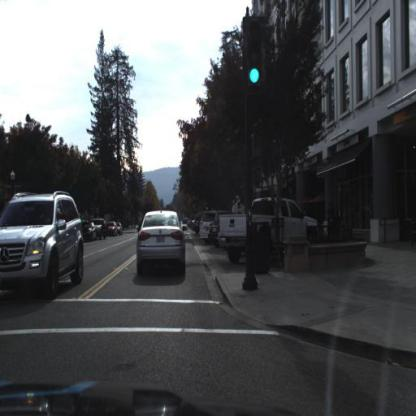car: (2, 193, 85, 287), (216, 197, 320, 253), (136, 211, 186, 279), (198, 209, 213, 250), (201, 212, 211, 245), (83, 218, 96, 240), (95, 219, 106, 238), (108, 221, 118, 239)
pedestrian: (326, 199, 335, 231)
trafficLight-Green: (244, 19, 267, 92)
